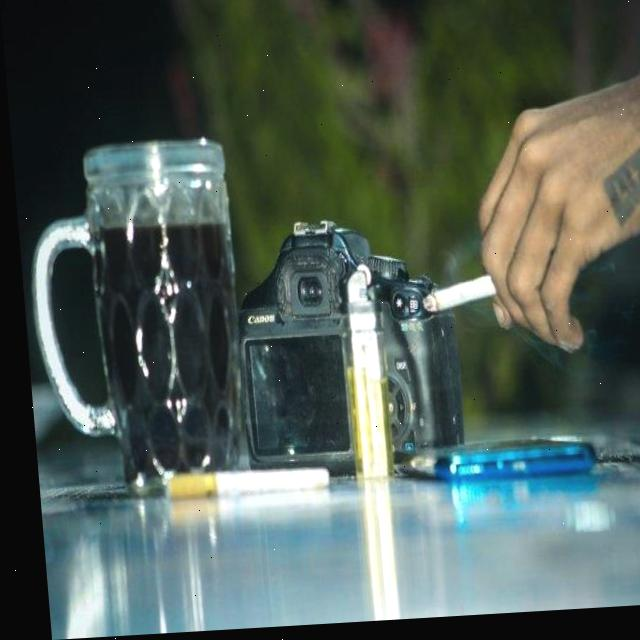cigarette: (156, 468, 323, 502), (415, 281, 490, 317)
